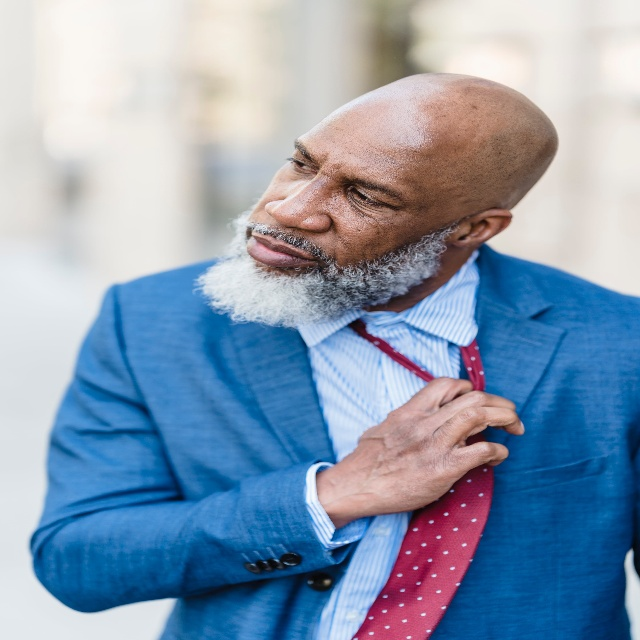Sin_guantes: (351, 366, 529, 505)
